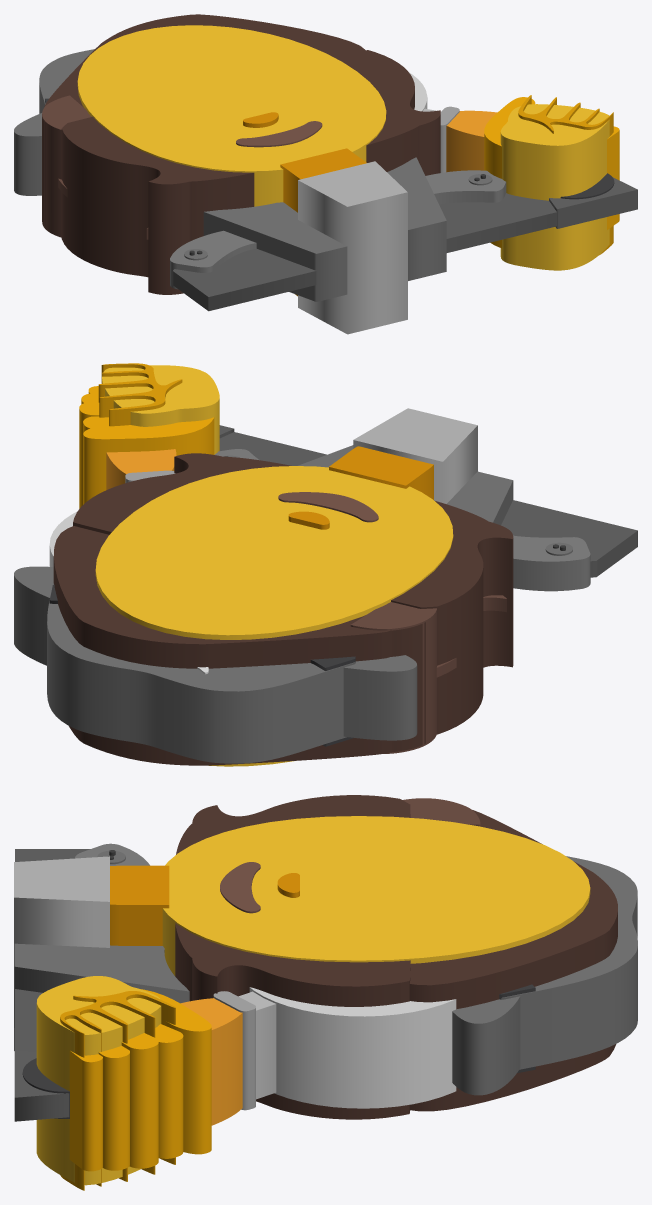
Rendered from emoji_u1f575.glb.
The picture shows the model from 3 angles, top to bottom: view 1: azimuth 30°, elevation 25°; view 2: azimuth 150°, elevation 25°; view 3: azimuth 270°, elevation 25°; orthographic projection. The views are drawn at different scales.
Visible parts, largest first — view 1: emoji_u1f575; view 2: emoji_u1f575; view 3: emoji_u1f575.
Part boxes in pixels (x1,y1,x2,y2): emoji_u1f575: (14,14,637,334); emoji_u1f575: (14,363,637,766); emoji_u1f575: (14,795,637,1190).
Size of the model in its own units: 0.0326 by 0.0092 by 0.0331.
